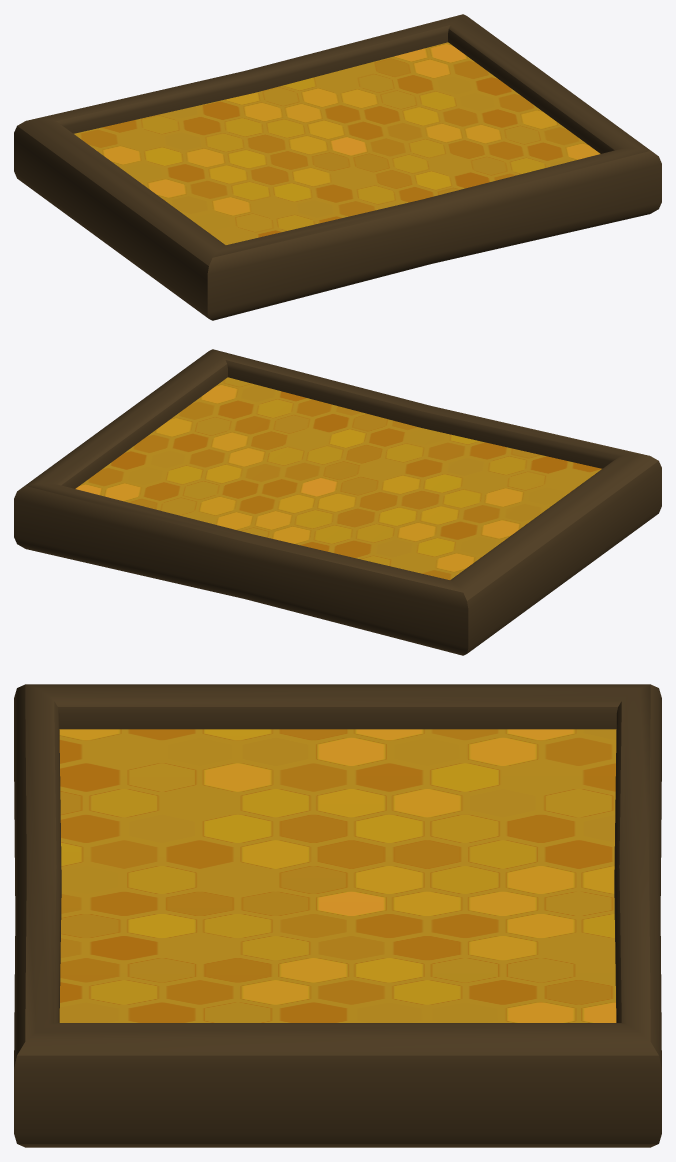
File: honeycombswithwood.fbx
3 renders of one model, top to bottom at view 1: azimuth 30°, elevation 25°; view 2: azimuth 150°, elevation 25°; view 3: azimuth 270°, elevation 25°, orthographic. The views are drawn at different scales.
Visible parts, largest first — view 1: Object_3, Object_2; view 2: Object_3, Object_2; view 3: Object_2, Object_3.
Part boxes in pixels (bbox=[...]): Object_3: bbox=[14, 14, 661, 320]; Object_2: bbox=[74, 42, 600, 244]; Object_3: bbox=[14, 349, 661, 655]; Object_2: bbox=[75, 377, 601, 579]; Object_2: bbox=[59, 729, 616, 1022]; Object_3: bbox=[14, 684, 661, 1147].
Bounding box in the file's own units: 271 × 38.04 × 200.
